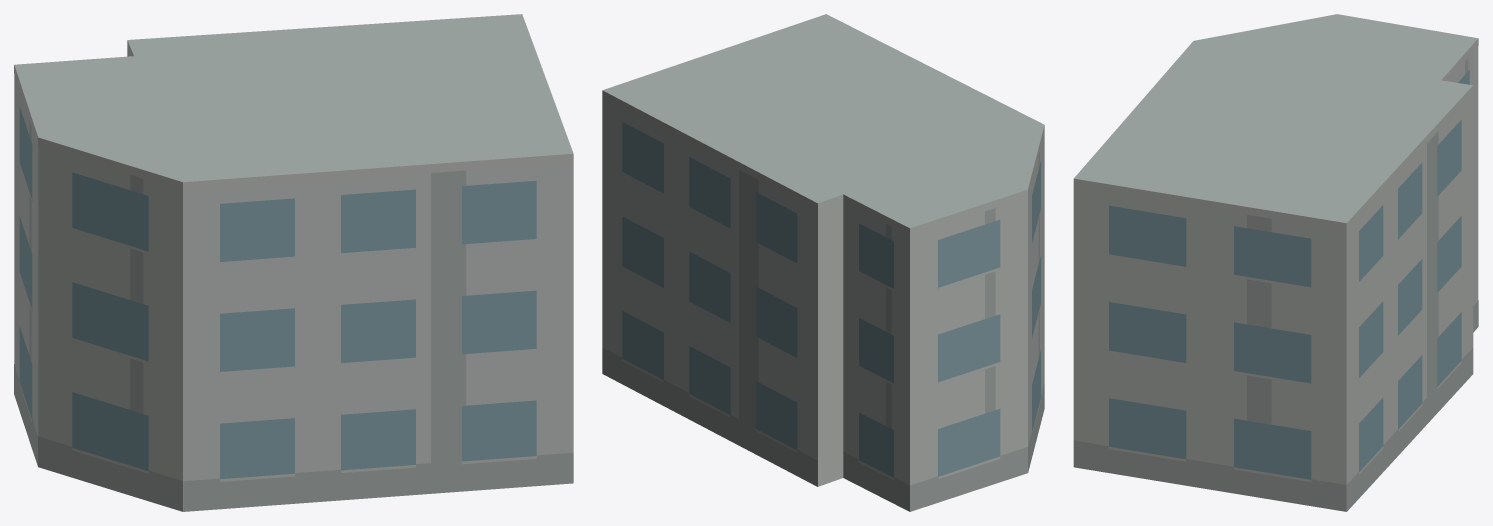
Rendered from residential-1c03441b-669a-4cf9-bd23-954ead720dcb.glb.
3 renders of one model, left to right at view 1: azimuth 30°, elevation 25°; view 2: azimuth 150°, elevation 25°; view 3: azimuth 270°, elevation 25°, orthographic. The views are drawn at different scales.
Parts seen in each view (by area): view 1: residential-1c03441b-669a-4cf9-bd23-954ead720dcb.tmp; view 2: residential-1c03441b-669a-4cf9-bd23-954ead720dcb.tmp; view 3: residential-1c03441b-669a-4cf9-bd23-954ead720dcb.tmp.
Part boxes in pixels (x1,y1,x2,y2): residential-1c03441b-669a-4cf9-bd23-954ead720dcb.tmp: [14, 14, 573, 511]; residential-1c03441b-669a-4cf9-bd23-954ead720dcb.tmp: [602, 14, 1044, 511]; residential-1c03441b-669a-4cf9-bd23-954ead720dcb.tmp: [1073, 14, 1478, 511].
Bounding box in the file's own units: 13.99 × 9 × 11.44.
